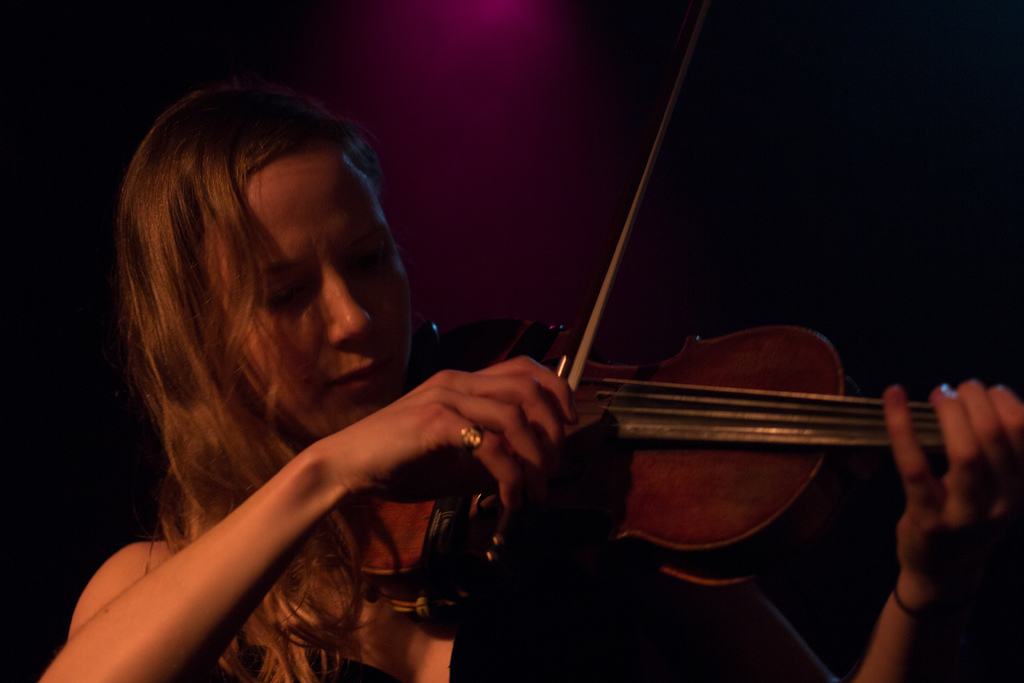Human_hand: (320, 350, 582, 528), (883, 378, 1023, 593)
